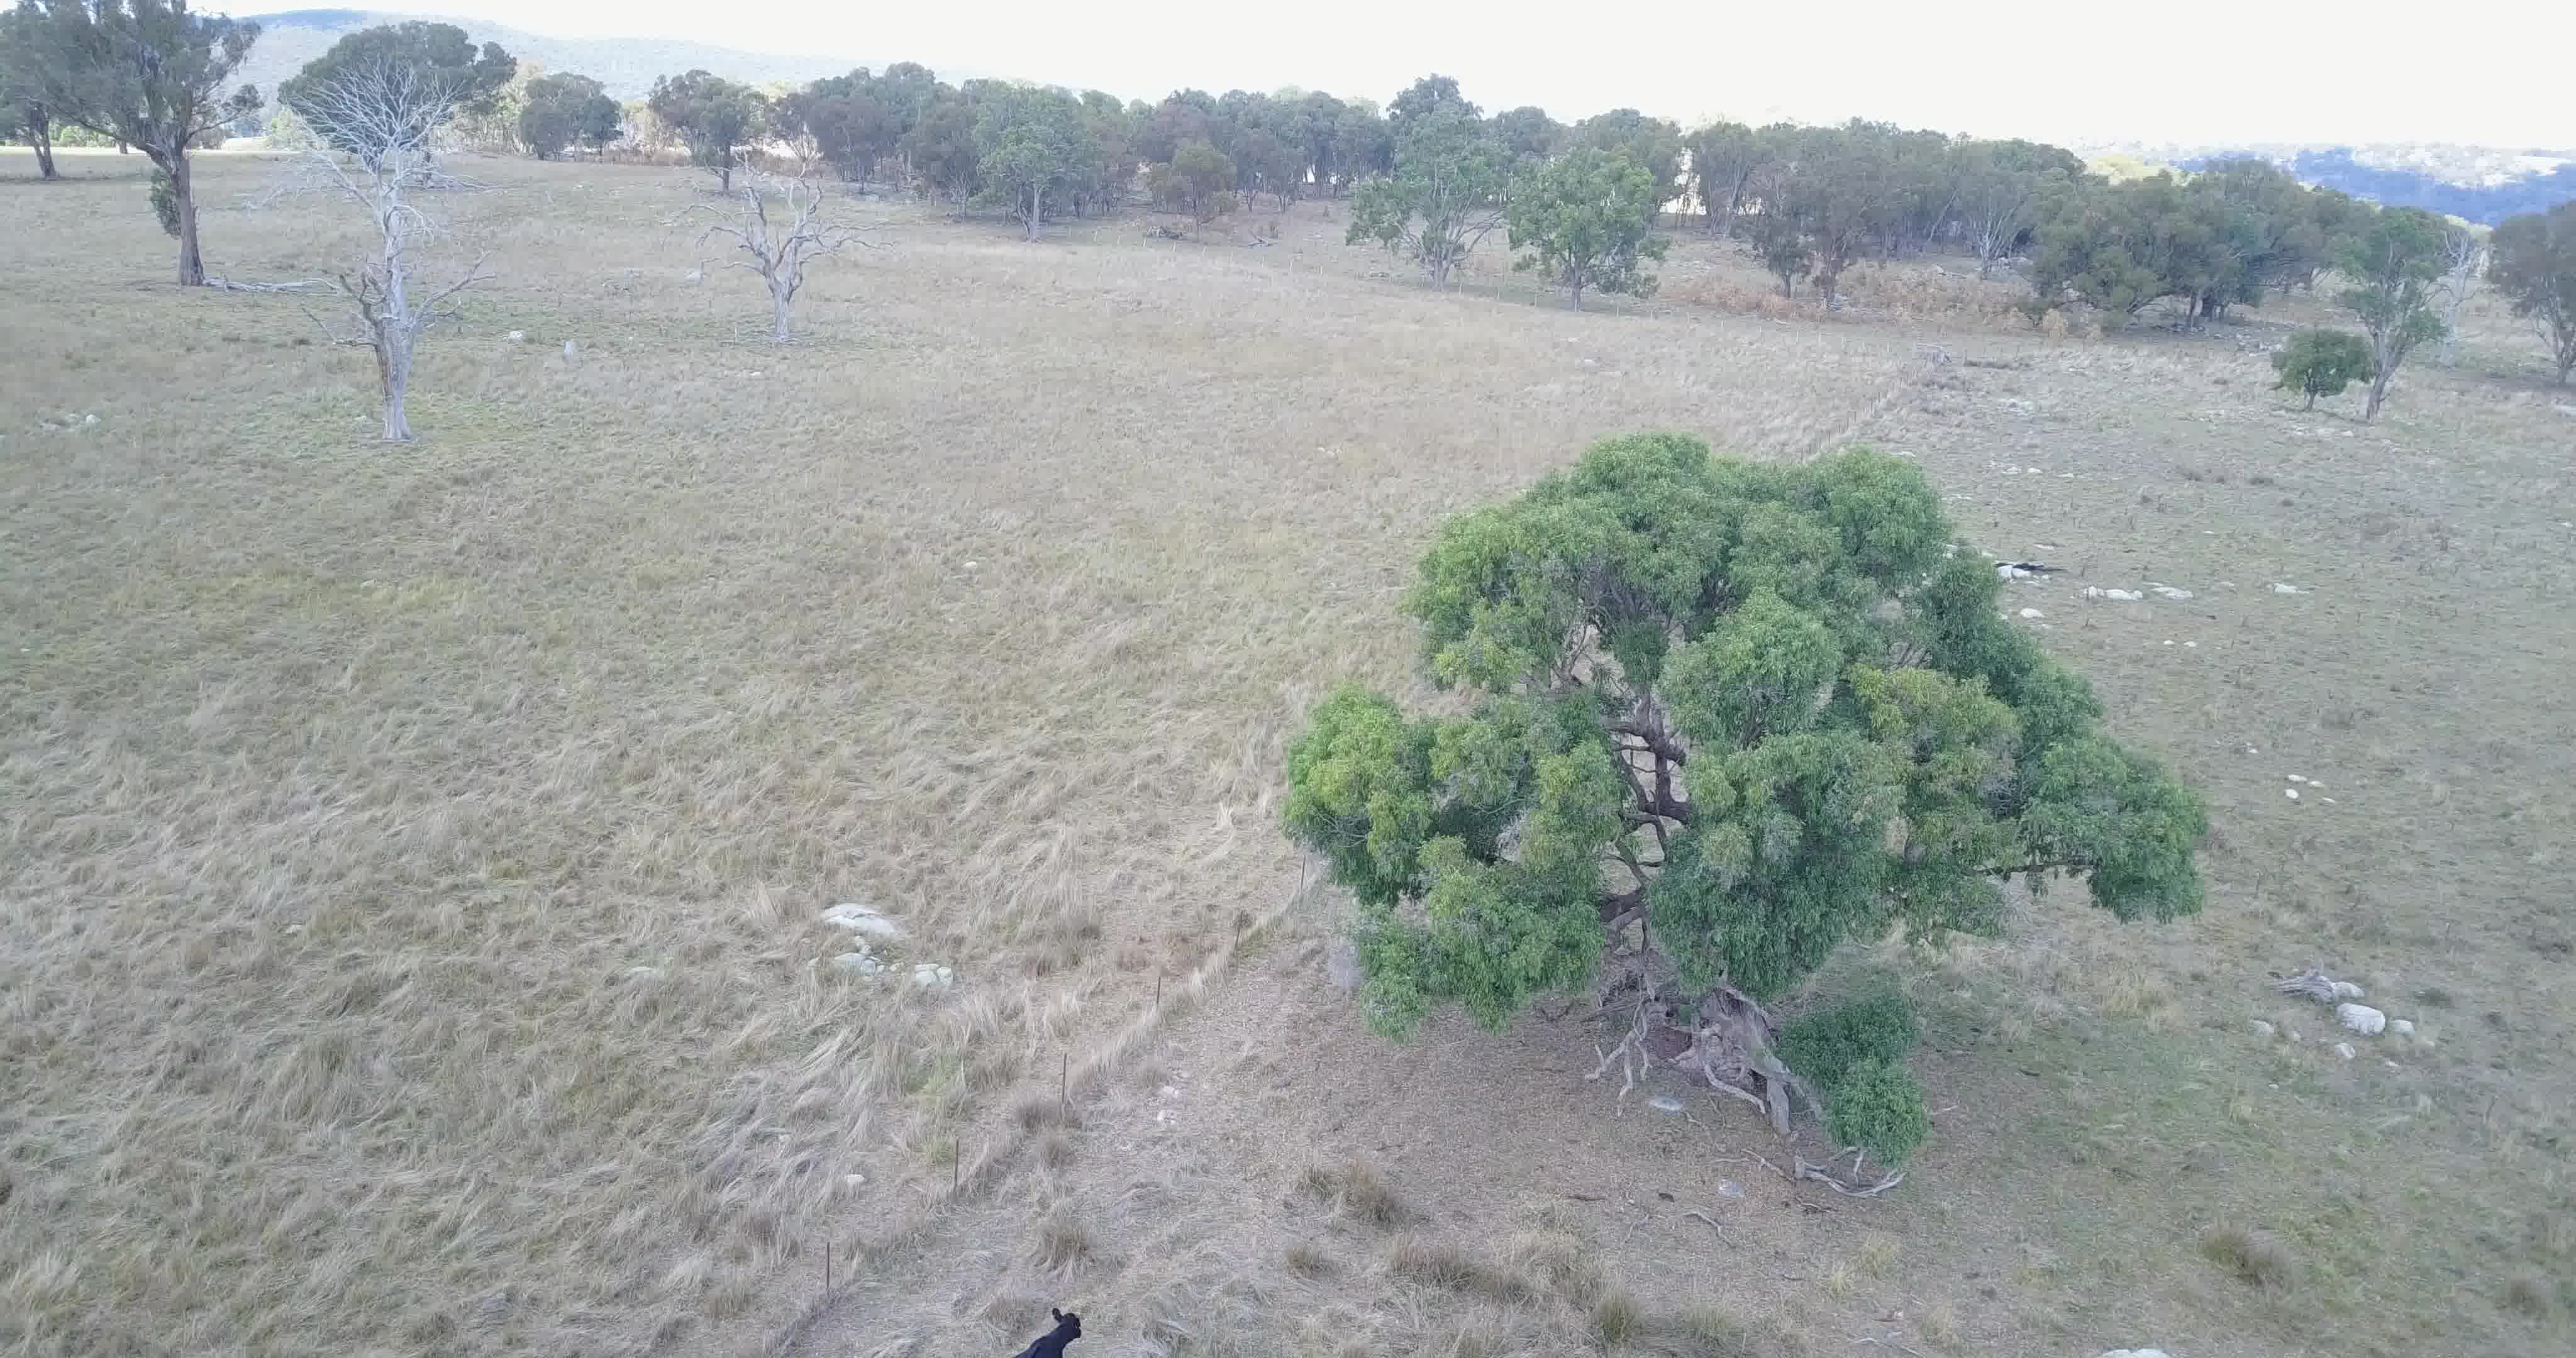cattle: (996, 1302, 1100, 1358)
